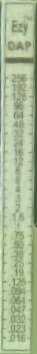number: (8, 296, 27, 306), (8, 324, 28, 333), (8, 306, 26, 316), (7, 287, 27, 296), (8, 315, 27, 324), (11, 74, 28, 84), (9, 278, 27, 287), (8, 334, 28, 342), (10, 258, 26, 268), (11, 83, 28, 92), (11, 93, 27, 102), (11, 230, 24, 241), (10, 269, 25, 278), (10, 213, 25, 222), (12, 101, 25, 111), (12, 119, 25, 128), (11, 249, 25, 257), (13, 139, 25, 148), (13, 129, 25, 138), (11, 241, 24, 249), (12, 111, 25, 119), (13, 157, 24, 166), (13, 148, 24, 157), (13, 166, 22, 175), (13, 203, 21, 212), (14, 194, 22, 203), (14, 185, 22, 194), (14, 175, 21, 185), (15, 223, 21, 230)
